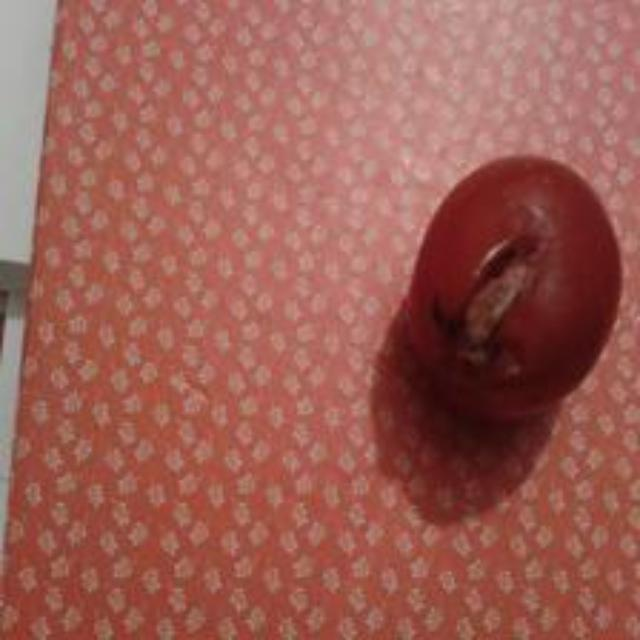defect: (403, 151, 627, 421)
